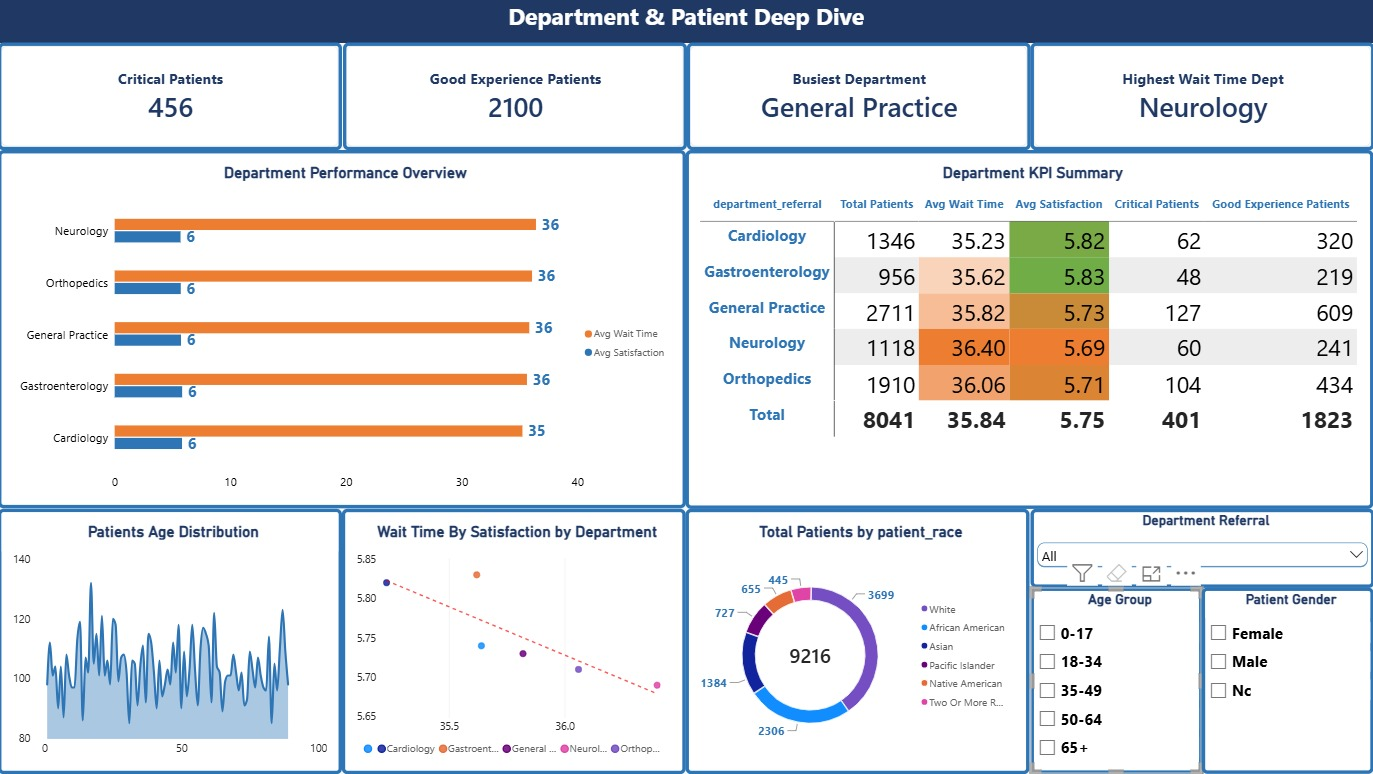

What the dashboard file says about the page in this screenshot:
{"tool":"powerbi","page":{"name":"Department & Patient Analysis","canvas":[1920,1080],"ordinal":2},"visuals":[{"type":"textbox","box":[0,0,1920.4,60],"z":0},{"type":"clusteredBarChart","title":"Department Performance Overview","fields":{"Category":["hospital_er_clean.department_referral"],"Y":["hospital_er_clean.Avg Wait Time","hospital_er_clean.Avg Satisfaction"]},"box":[0,210,960,500],"z":1000},{"type":"scatterChart","title":"Wait Time By Satisfaction by Department","fields":{"Series":["hospital_er_clean.department_referral"],"X":["hospital_er_clean.Avg Wait Time"],"Y":["hospital_er_clean.Avg Satisfaction"]},"box":[480,710,480,370],"z":2000},{"type":"areaChart","title":"Patients Age Distribution","fields":{"Category":["hospital_er_clean.patient_age"],"Y":["hospital_er_clean.Total Patients"]},"box":[0,710,480,370],"z":3000},{"type":"pivotTable","title":"Department KPI Summary","fields":{"Rows":["hospital_er_clean.department_referral"],"Values":["hospital_er_clean.Total Patients","hospital_er_clean.Avg Wait Time","hospital_er_clean.Avg Satisfaction","hospital_er_clean.Critical Patients","hospital_er_clean.Good Experience Patients"]},"box":[960,210,960,500.6],"z":4000},{"type":"donutChart","fields":{"Category":["hospital_er_clean.patient_race"],"Y":["hospital_er_clean.Total Patients"]},"box":[960,710,480,370],"z":4001},{"type":"cardVisual","fields":{"Data":["hospital_er_clean.Critical Patients"]},"box":[0,60,480,150],"z":4002},{"type":"cardVisual","fields":{"Data":["hospital_er_clean.Good Experience Patients"]},"box":[481.4,59.3,480,150],"z":4003},{"type":"cardVisual","fields":{"Data":["hospital_er_clean.Busiest Department"]},"box":[961,60,480,150],"z":4004},{"type":"cardVisual","fields":{"Data":["hospital_er_clean.Highest Wait Time Dept"]},"box":[1440,60,480,150],"z":4005},{"type":"slicer","title":"Department Referral","fields":{"Values":["hospital_er_clean.department_referral"]},"box":[1440,710,480,110],"z":4006},{"type":"slicer","title":"Age Group","fields":{"Values":["hospital_er_clean.age_group"]},"box":[1440,820,240,260],"z":4007},{"type":"slicer","title":"Patient Gender","fields":{"Values":["hospital_er_clean.patient_gender"]},"box":[1680,820,240,260],"z":4008}]}

Visuals, with their boxes in screenshot pixels (x1, y1, x2, y2), scaled from the page's 1920x1080 canvas onto the 1373x774 screenshot:
textbox: [left=0, top=0, right=1372, bottom=43]
"Department Performance Overview" clusteredBarChart: [left=0, top=150, right=686, bottom=509]
"Wait Time By Satisfaction by Department" scatterChart: [left=343, top=509, right=686, bottom=773]
"Patients Age Distribution" areaChart: [left=0, top=509, right=343, bottom=773]
"Department KPI Summary" pivotTable: [left=686, top=150, right=1372, bottom=509]
donutChart - hospital_er_clean.patient_race x hospital_er_clean.Total Patients: [left=686, top=509, right=1030, bottom=773]
cardVisual - hospital_er_clean.Critical Patients: [left=0, top=43, right=343, bottom=150]
cardVisual - hospital_er_clean.Good Experience Patients: [left=344, top=42, right=688, bottom=150]
cardVisual - hospital_er_clean.Busiest Department: [left=687, top=43, right=1030, bottom=150]
cardVisual - hospital_er_clean.Highest Wait Time Dept: [left=1030, top=43, right=1372, bottom=150]
"Department Referral" slicer: [left=1030, top=509, right=1372, bottom=588]
"Age Group" slicer: [left=1030, top=588, right=1201, bottom=773]
"Patient Gender" slicer: [left=1201, top=588, right=1372, bottom=773]
